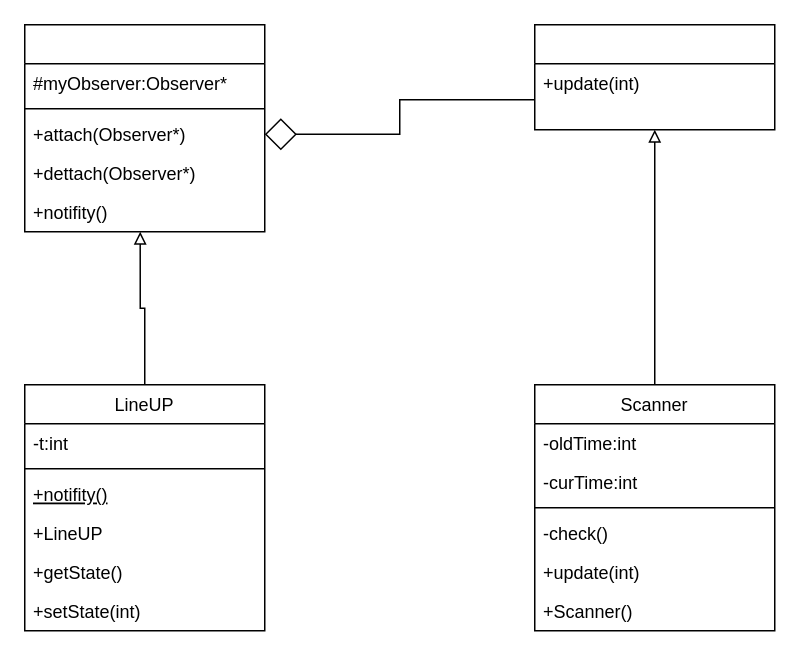
The diagram is 800 pixels wide and 656 high, and some of its shapes have lost their labels. The box of each missing label's shape, as (x1, y1, x2, y2) in pixels:
Observer: (533, 23, 775, 130)
Subject: (23, 23, 265, 232)
